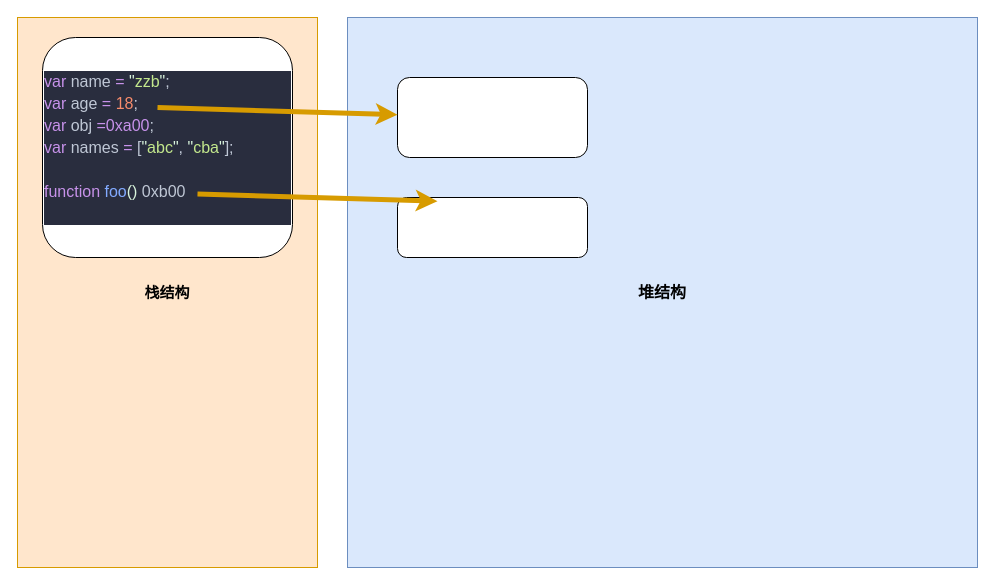
Some shapes in this 995 by 585 pixel diagram are drawn without their labels. The centre of each missing label's shape, as x and y in pixels:
{ name: " zzb " , age: 18 }: the point at 492,117
{console . log ( " foo " );: the point at 492,227
